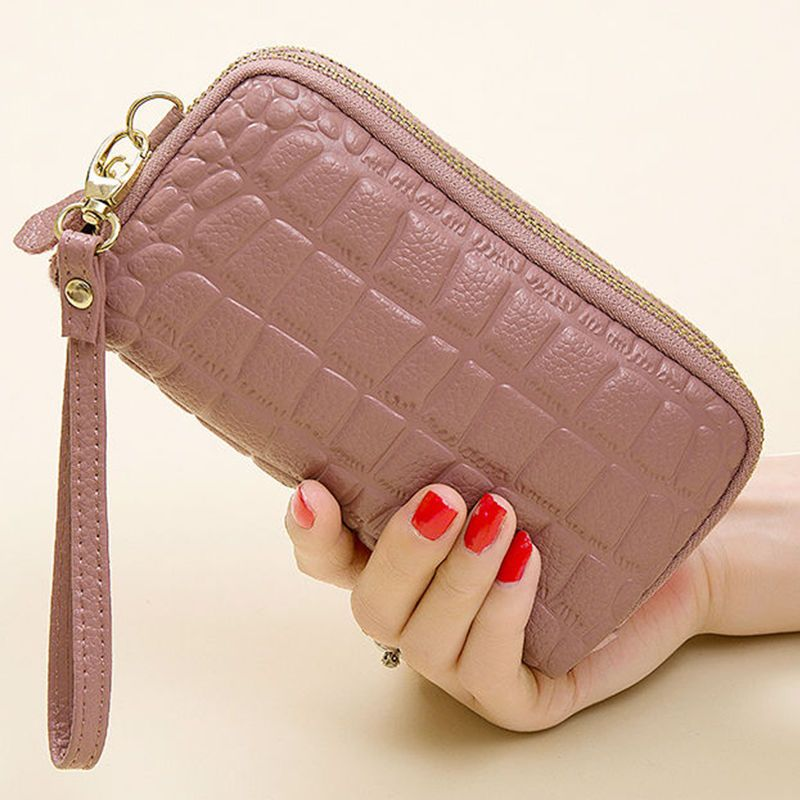no-phone: (74, 37, 763, 730)
